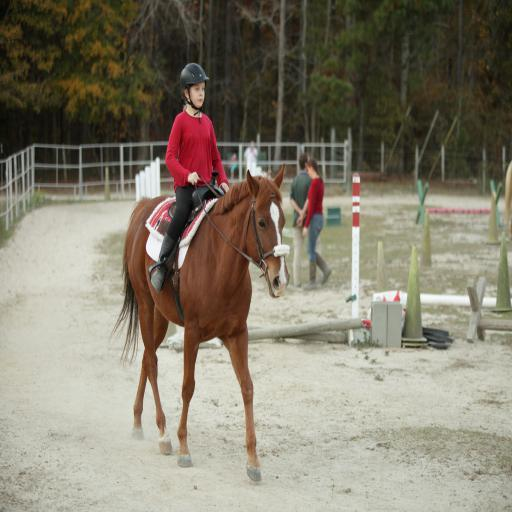horse: (110, 162, 288, 486)
